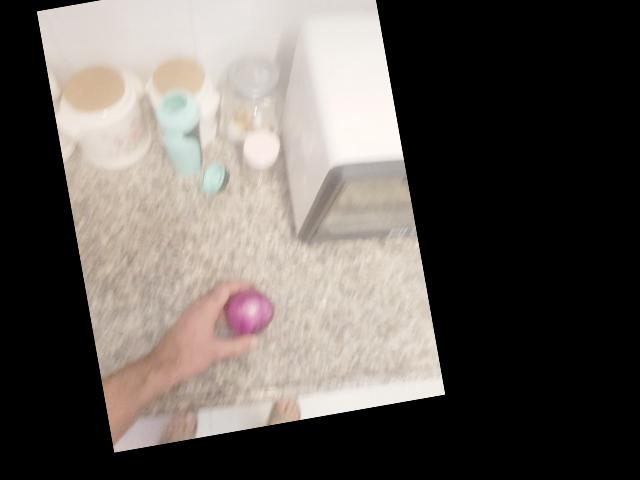onion: (365, 96, 428, 163)
